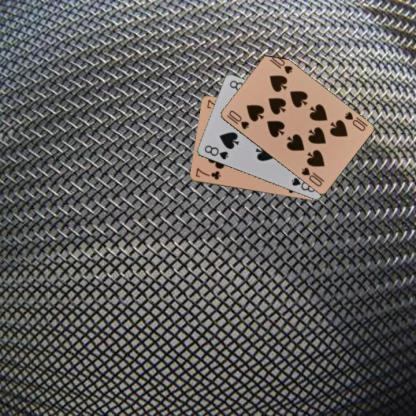10s: (223, 107, 250, 130), (342, 110, 366, 132)
7c: (193, 165, 222, 181)
8s: (202, 142, 229, 160)
